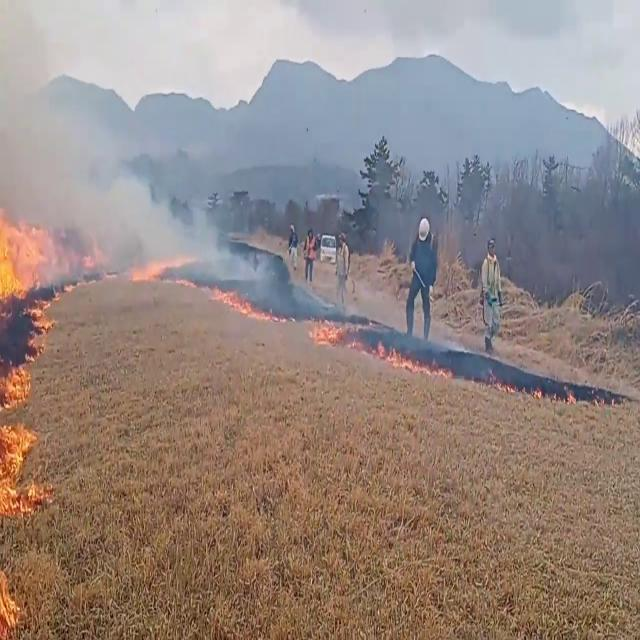Fire: (0, 188, 58, 322), (0, 350, 47, 512), (126, 246, 200, 287), (212, 276, 274, 322), (79, 233, 108, 281)
Smoke: (0, 2, 251, 298)
